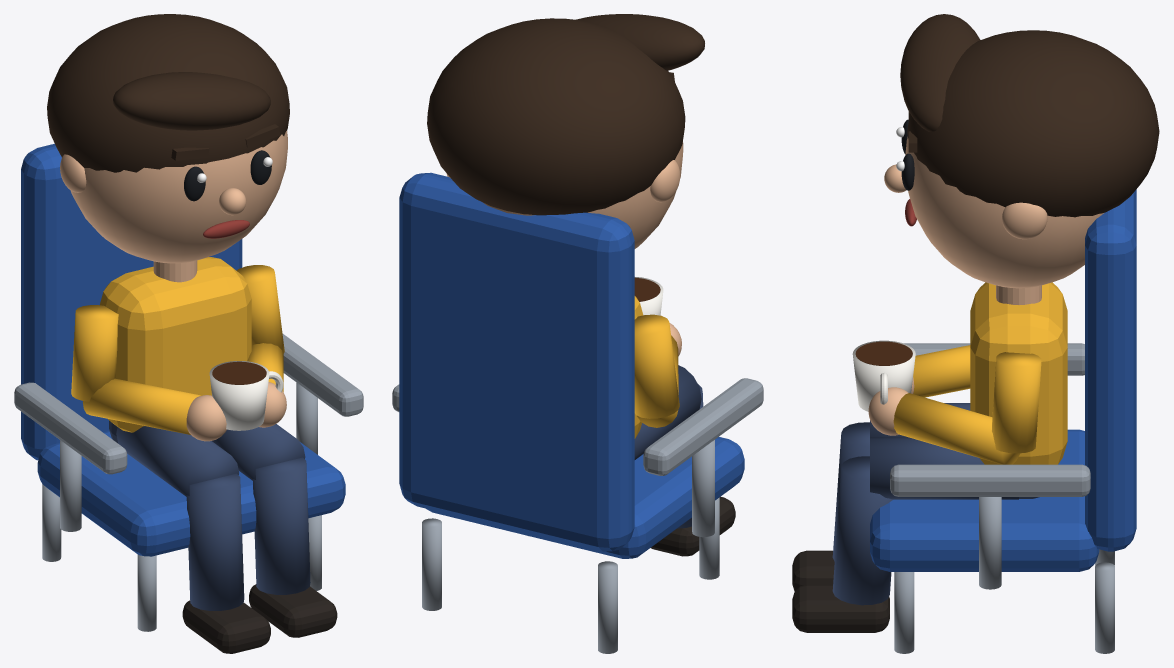
The model's file is pasajero.glb.
3 views of the same model, side by side, from view 1: azimuth 30°, elevation 25°; view 2: azimuth 150°, elevation 25°; view 3: azimuth 270°, elevation 25° (orthographic). The views are drawn at different scales.
Parts seen in each view (by area): view 1: Sphere.011, Cube.007, Cube.003, Sphere.002, Cube.006, Sphere.012, Cylinder.001, Cylinder.008, Cylinder, Cube.008, Cylinder.003, Cylinder.002 (+20 smaller); view 2: Cube.007, Sphere.011, Cube.006, Cube.008, Cylinder.002, Sphere.012, Sphere.002, Cylinder.009, Cylinder.013, Cylinder.014, Cylinder, Cube.001 (+4 smaller); view 3: Sphere.011, Cube.007, Cube.006, Sphere.002, Cube.003, Cube.009, Cylinder.008, Sphere.012, Cylinder.005, Cylinder.004, Cube.002, Cylinder.007 (+11 smaller).
Part boxes in pixels (box(x1,y1,x2,y2)): Sphere.011: box(47, 14, 289, 172); Cube.007: box(21, 143, 242, 460); Cube.003: box(100, 257, 251, 432); Sphere.002: box(70, 131, 287, 263); Cube.006: box(37, 431, 345, 556); Sphere.012: box(113, 72, 270, 130); Cylinder.001: box(186, 473, 244, 610); Cylinder.008: box(252, 457, 310, 594); Cylinder: box(116, 426, 238, 496); Cube.008: box(14, 382, 127, 474); Cylinder.003: box(82, 378, 200, 434); Cylinder.002: box(71, 305, 118, 401); Cube.007: box(399, 172, 634, 551); Sphere.011: box(427, 18, 685, 215); Cube.006: box(426, 437, 744, 558); Cube.008: box(643, 378, 763, 475); Cylinder.002: box(634, 314, 679, 418); Sphere.012: box(576, 14, 704, 70); Sphere.002: box(446, 142, 683, 248); Cylinder.009: box(692, 440, 714, 537); Cylinder.013: box(598, 561, 617, 653); Cylinder.014: box(422, 518, 441, 610); Cylinder: box(634, 365, 701, 459); Cube.001: box(651, 496, 735, 556); Sphere.011: box(907, 30, 1159, 217); Cube.007: box(1085, 189, 1136, 551); Cube.006: box(870, 429, 1099, 571); Sphere.002: box(905, 136, 1103, 288); Cube.003: box(970, 282, 1067, 464); Cube.009: box(890, 464, 1090, 496); Cylinder.008: box(832, 456, 892, 605); Sphere.012: box(900, 14, 980, 131); Cylinder.005: box(893, 393, 1020, 464); Cylinder.004: box(992, 352, 1041, 453); Cube.002: box(792, 584, 889, 632); Cylinder.007: box(870, 437, 1018, 499).
Size of the model in its own units: 1.1 by 2.16 by 1.28.
